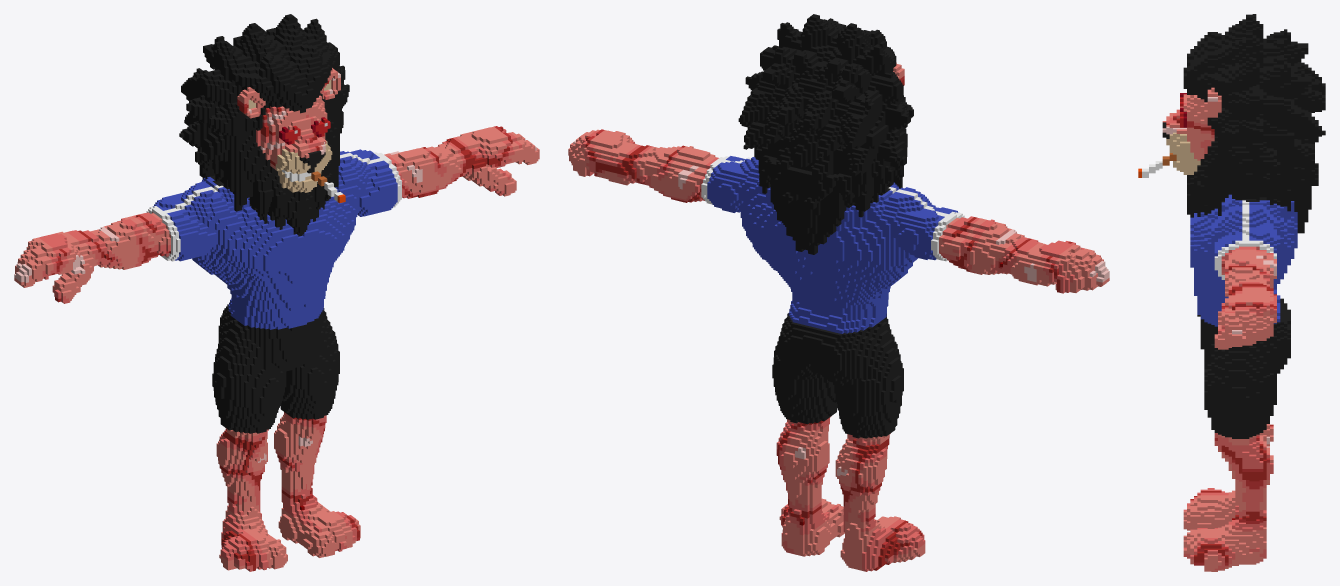
Rendered from 856-DsNQr2JZ.fbx.
3 views of the same model, side by side, from view 1: azimuth 30°, elevation 25°; view 2: azimuth 150°, elevation 25°; view 3: azimuth 270°, elevation 25° (orthographic). The views are drawn at different scales.
Parts seen in each view (by area): view 1: cigarette; view 2: cigarette; view 3: cigarette.
Boxes of the visible parts, x1=… form: cigarette: x1=14, y1=14, x2=539, y2=571; cigarette: x1=568, y1=14, x2=1109, y2=571; cigarette: x1=1138, y1=14, x2=1325, y2=571.
Bounding box in the file's own units: 17.2 × 16.5 × 5.4.
5 materials, 5 textured.
